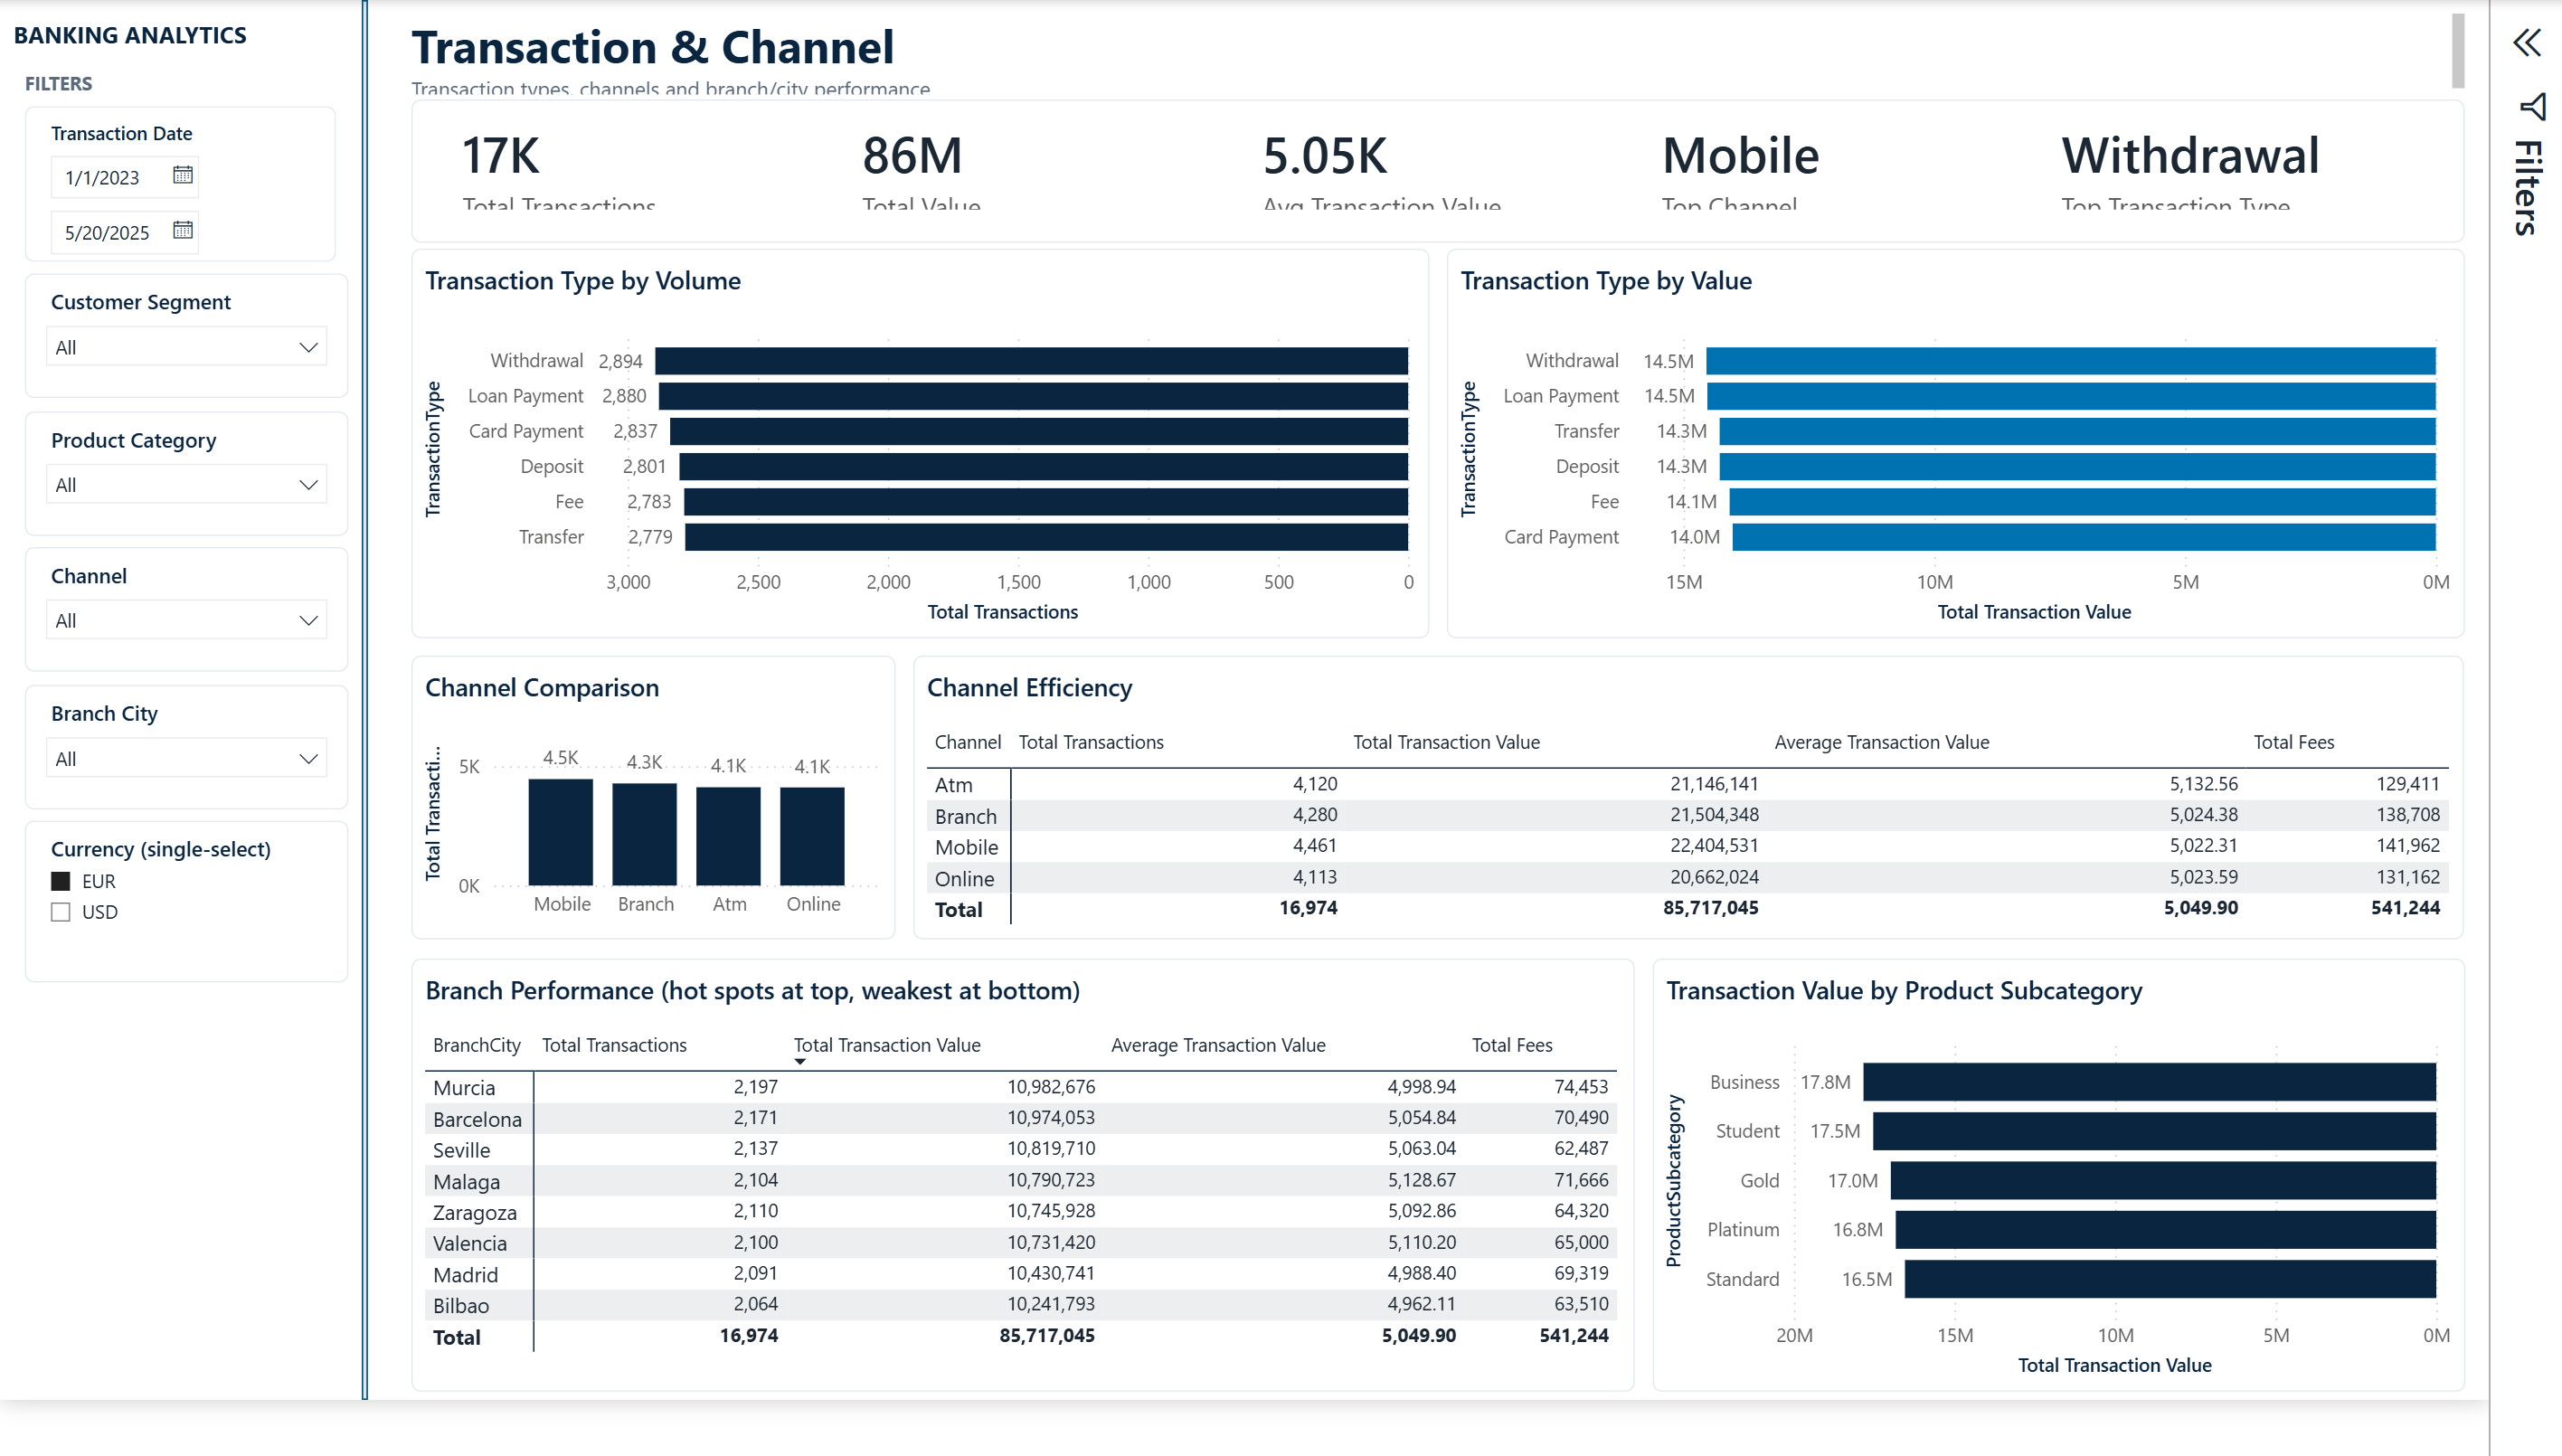

The dashboard page shown, as its layout file describes it:
{"tool":"powerbi","page":{"name":"Transaction & Channel","canvas":[1600,900],"ordinal":2},"visuals":[{"type":"shape","box":[232,0,4,900],"z":999},{"type":"textbox","box":[8,12,224,28],"z":1000},{"type":"textbox","box":[16,44,208,20],"z":1001},{"type":"slicer","fields":{"Values":["DimDate.Date"]},"box":[16,68,200,100],"z":1002},{"type":"slicer","fields":{"Values":["FactTransaction.CustomerSegment"]},"box":[16,176,208,80],"z":1003},{"type":"slicer","fields":{"Values":["FactTransaction.ProductCategory"]},"box":[16,264,208,80],"z":1004},{"type":"slicer","fields":{"Values":["FactTransaction.Channel"]},"box":[16,352,208,80],"z":1005},{"type":"slicer","fields":{"Values":["FactTransaction.BranchCity"]},"box":[16,440,208,80],"z":1006},{"type":"slicer","fields":{"Values":["FactTransaction.Currency"]},"box":[16,528,208,104],"z":1007},{"type":"textbox","box":[264,8,1320,52],"z":1010},{"type":"cardVisual","fields":{"Data":["FactTransaction.Total Transactions","FactTransaction.Total Transaction Value","FactTransaction.Average Transaction Value","FactTransaction.Most Used Channel","FactTransaction.Most Valuable Transaction Type"]},"box":[264,64,1320,92],"z":1020},{"type":"clusteredBarChart","title":"Transaction Type by Volume","fields":{"Category":["FactTransaction.TransactionType"],"Y":["FactTransaction.Total Transactions"]},"box":[264,160,654,250],"z":1030},{"type":"clusteredBarChart","title":"Transaction Type by Value","fields":{"Category":["FactTransaction.TransactionType"],"Y":["FactTransaction.Total Transaction Value"]},"box":[930,160,654,250],"z":1031},{"type":"clusteredColumnChart","title":"Channel Comparison","fields":{"Category":["FactTransaction.Channel"],"Y":["FactTransaction.Total Transactions"]},"box":[264,422,311,182],"z":1032},{"type":"pivotTable","title":"Channel Efficiency","fields":{"Rows":["FactTransaction.Channel"],"Values":["FactTransaction.Total Transactions","FactTransaction.Total Transaction Value","FactTransaction.Average Transaction Value","FactTransaction.Total Fees"]},"box":[587,422,997,182],"z":1033},{"type":"pivotTable","title":"Branch Performance (hot spots at top, weakest at bottom)","fields":{"Rows":["FactTransaction.BranchCity"],"Values":["FactTransaction.Total Transactions","FactTransaction.Total Transaction Value","FactTransaction.Average Transaction Value","FactTransaction.Total Fees"]},"box":[264,616,786,278],"z":1034},{"type":"clusteredBarChart","title":"Transaction Value by Product Subcategory","fields":{"Category":["FactTransaction.ProductSubcategory"],"Y":["FactTransaction.Total Transaction Value"]},"box":[1062,616,522,278],"z":1035}]}

Visuals, with their boxes on the page's 1600x900 design canvas (x1, y1, x2, y2). These are canvas units, not pixel positions in the 2562x1456 screenshot, which may show the page scaled, cropped or inside an application window:
shape: 232/0/236/900
textbox: 8/12/232/40
textbox: 16/44/224/64
slicer - DimDate.Date: 16/68/216/168
slicer - FactTransaction.CustomerSegment: 16/176/224/256
slicer - FactTransaction.ProductCategory: 16/264/224/344
slicer - FactTransaction.Channel: 16/352/224/432
slicer - FactTransaction.BranchCity: 16/440/224/520
slicer - FactTransaction.Currency: 16/528/224/632
textbox: 264/8/1584/60
cardVisual - FactTransaction.Total Transactions x FactTransaction.Total Transaction Value: 264/64/1584/156
"Transaction Type by Volume" clusteredBarChart: 264/160/918/410
"Transaction Type by Value" clusteredBarChart: 930/160/1584/410
"Channel Comparison" clusteredColumnChart: 264/422/575/604
"Channel Efficiency" pivotTable: 587/422/1584/604
"Branch Performance (hot spots at top, weakest at bottom)" pivotTable: 264/616/1050/894
"Transaction Value by Product Subcategory" clusteredBarChart: 1062/616/1584/894
